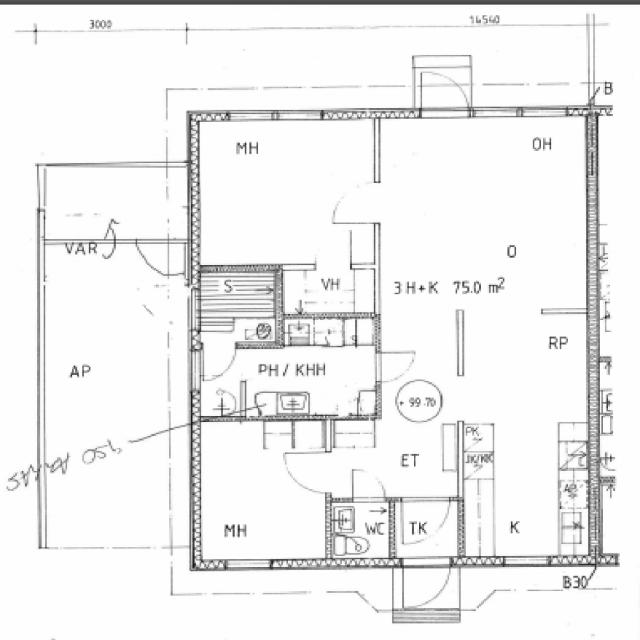door: (393, 496, 460, 553), (396, 556, 456, 612), (416, 70, 472, 120), (327, 179, 380, 225), (281, 451, 329, 496), (135, 236, 174, 278), (373, 348, 418, 384), (198, 344, 237, 384), (349, 466, 390, 504)
window: (275, 106, 324, 124), (470, 104, 520, 121), (226, 108, 278, 124), (519, 104, 571, 120), (32, 163, 49, 211), (501, 554, 552, 570), (221, 558, 273, 572), (354, 588, 378, 610), (34, 206, 48, 242)
zone: (376, 116, 594, 319), (458, 322, 591, 537), (189, 116, 367, 268), (191, 436, 331, 568), (194, 346, 382, 419), (39, 164, 184, 243), (194, 268, 280, 343), (280, 264, 378, 316), (330, 500, 394, 565), (397, 556, 456, 611), (393, 499, 459, 547), (283, 316, 358, 348)
